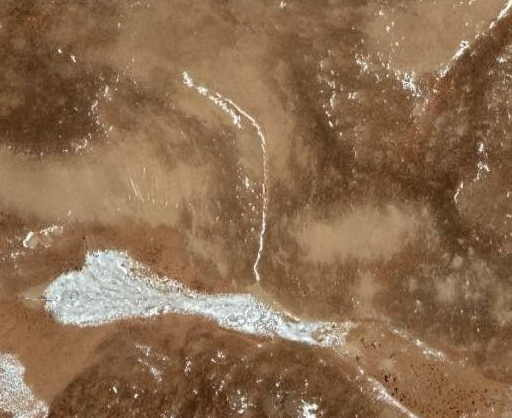slope: (38, 247, 365, 355), (0, 348, 52, 417)
